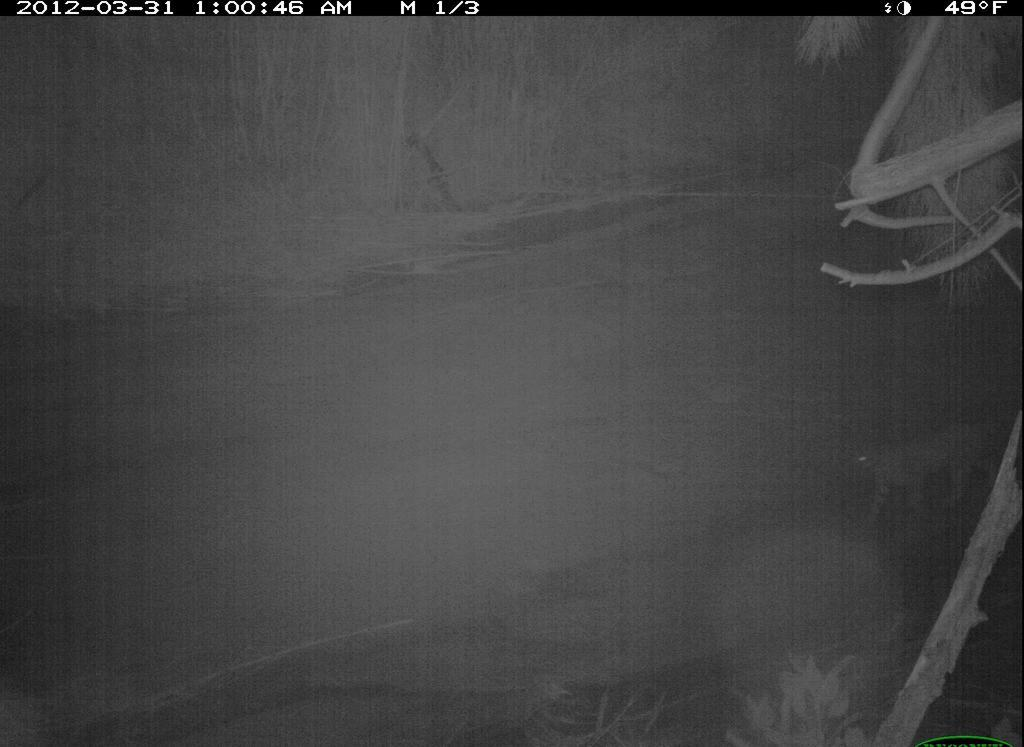bobcat: (825, 411, 1004, 518)
